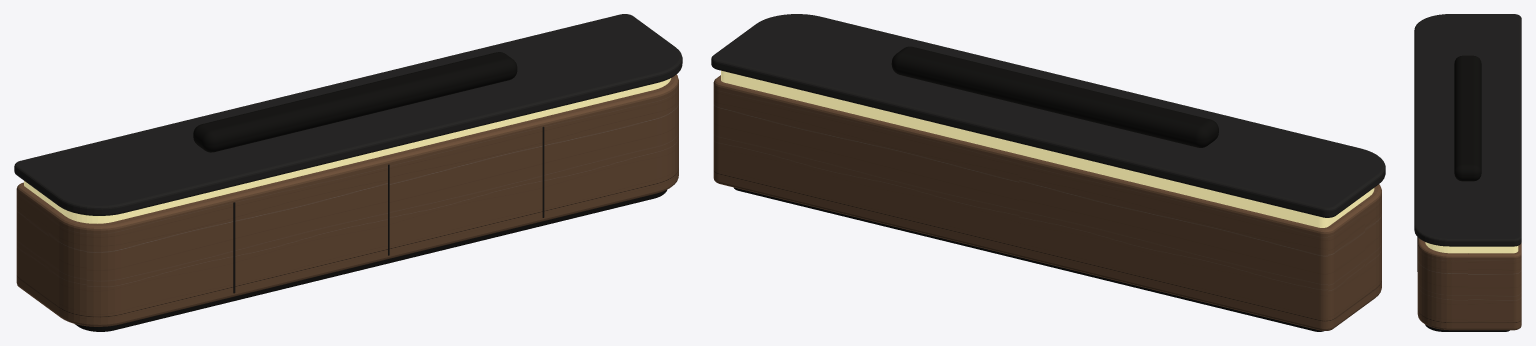
The model's file is aether-tv-stand-walnut.glb.
The picture shows the model from 3 angles, left to right: view 1: azimuth 30°, elevation 25°; view 2: azimuth 150°, elevation 25°; view 3: azimuth 270°, elevation 25°; orthographic projection. The views are drawn at different scales.
Visible parts, largest first — view 1: TV stand · Aether; view 2: TV stand · Aether; view 3: TV stand · Aether.
Part boxes in pixels (left/top/right/bottom): TV stand · Aether: left=14, top=14, right=682, bottom=331; TV stand · Aether: left=711, top=14, right=1385, bottom=331; TV stand · Aether: left=1414, top=14, right=1521, bottom=331.
Size of the model in its own units: 2 by 0.4712 by 0.4.
Materials: 6 (1 with a texture image).
